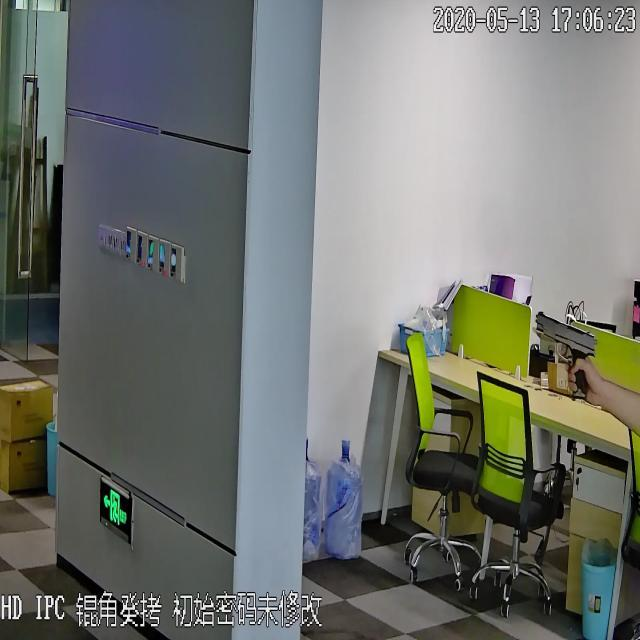gun: (523, 298, 609, 398)
